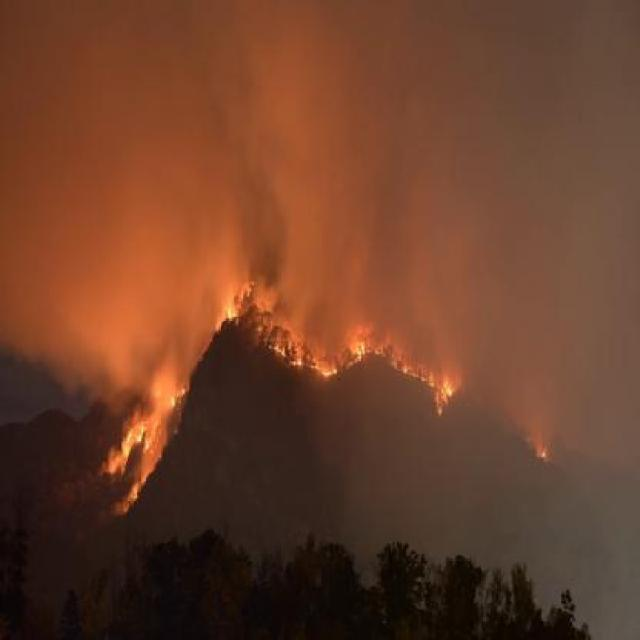Fire: (104, 413, 160, 509), (220, 276, 254, 324), (390, 358, 436, 389), (343, 336, 382, 366), (434, 373, 452, 415), (272, 344, 303, 366), (311, 362, 337, 378), (170, 384, 184, 408), (542, 448, 546, 460)
